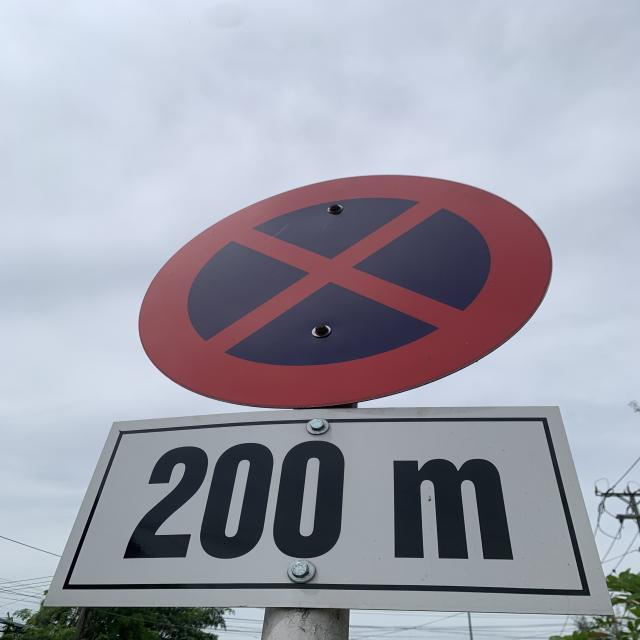Cam_Dung_Va_Dau_Xe: (137, 173, 558, 408)
